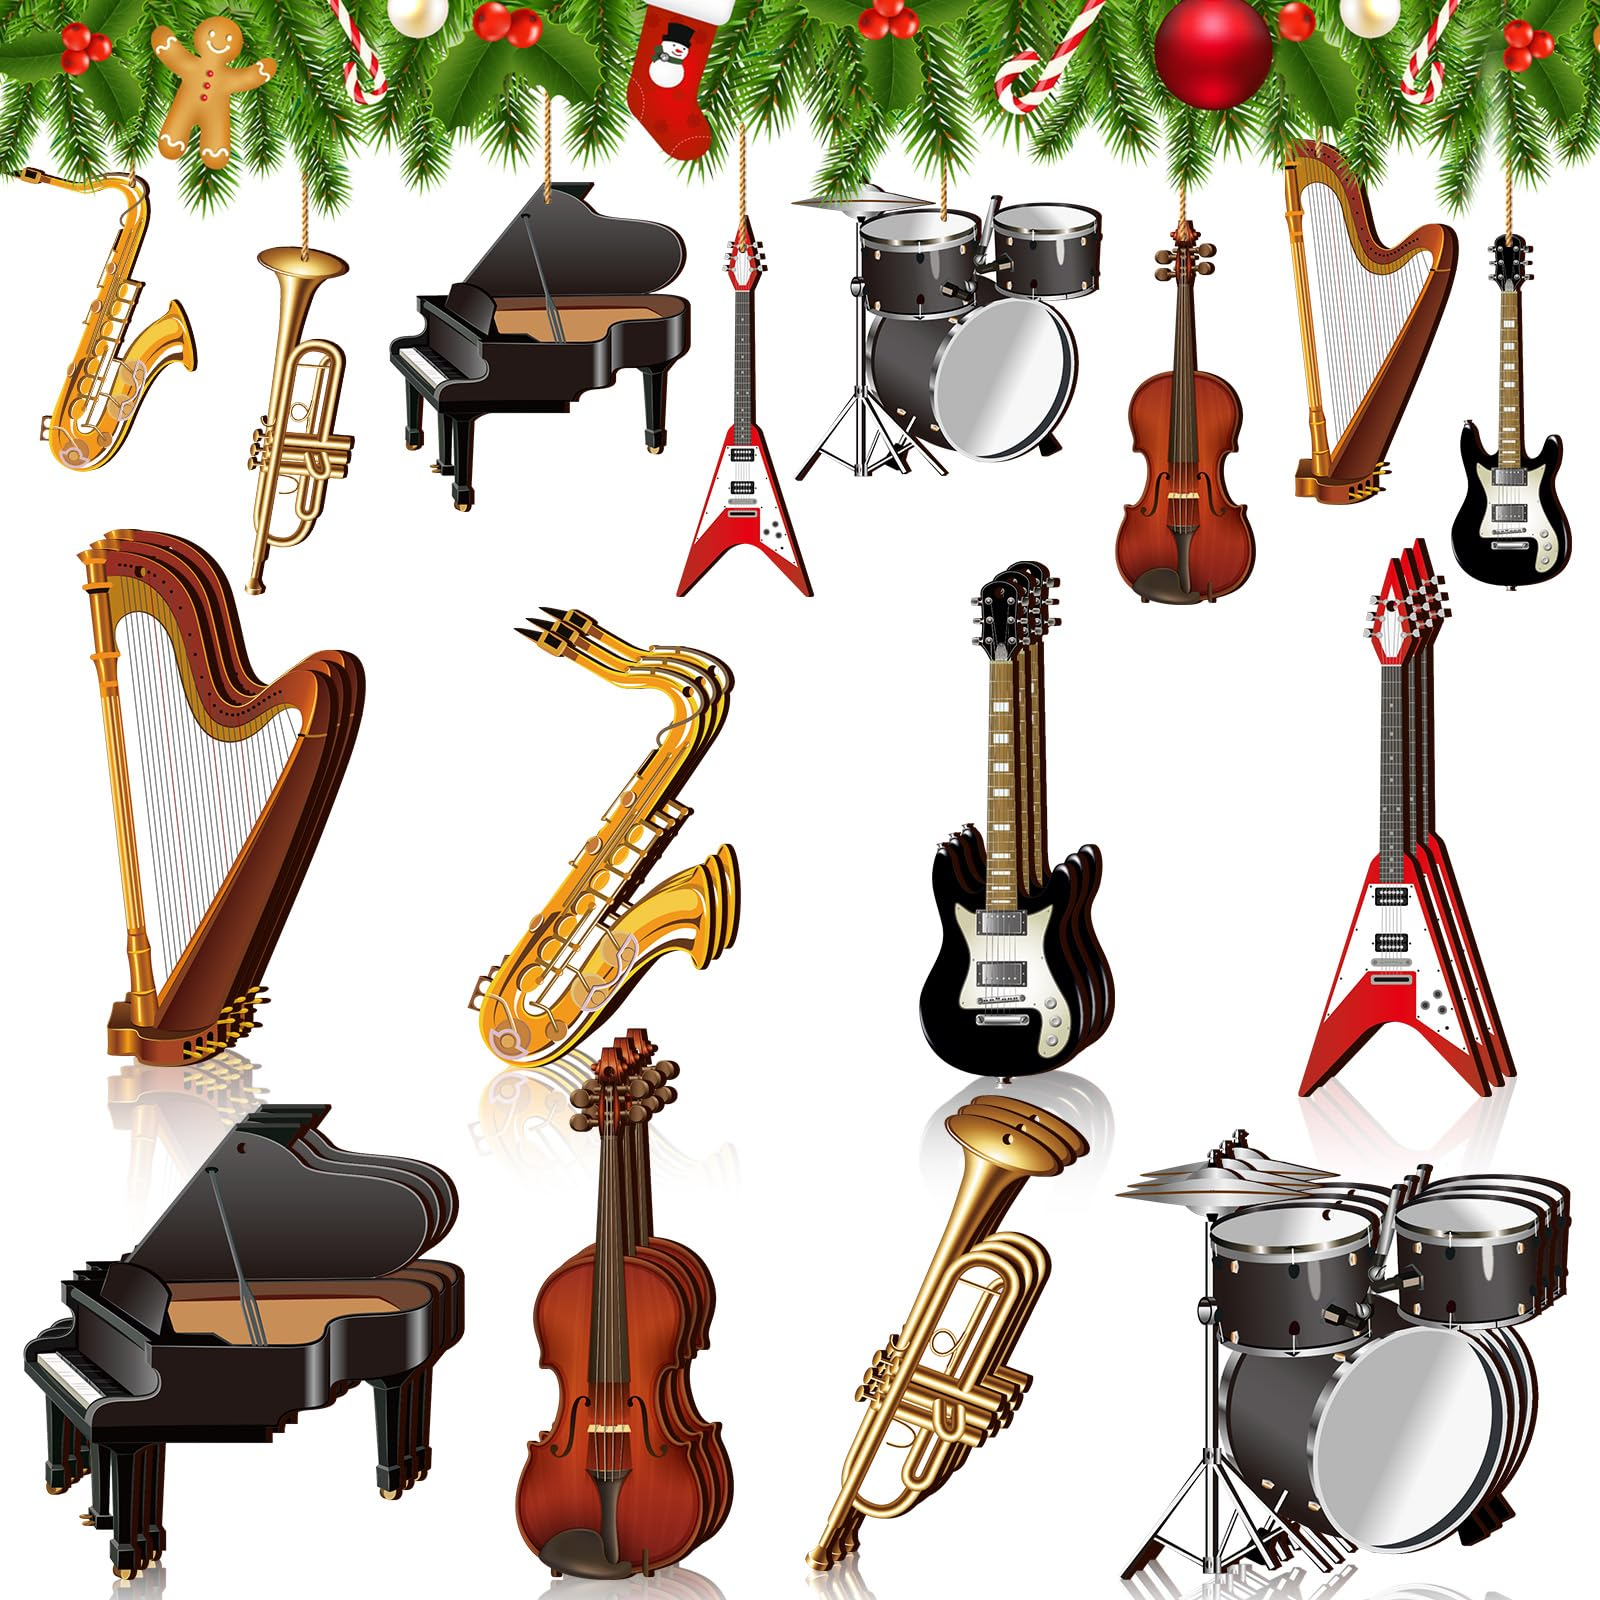Piano: (4, 1077, 530, 1600), (378, 130, 771, 544)
Saxophone: (459, 574, 796, 1073), (1, 108, 218, 529)
